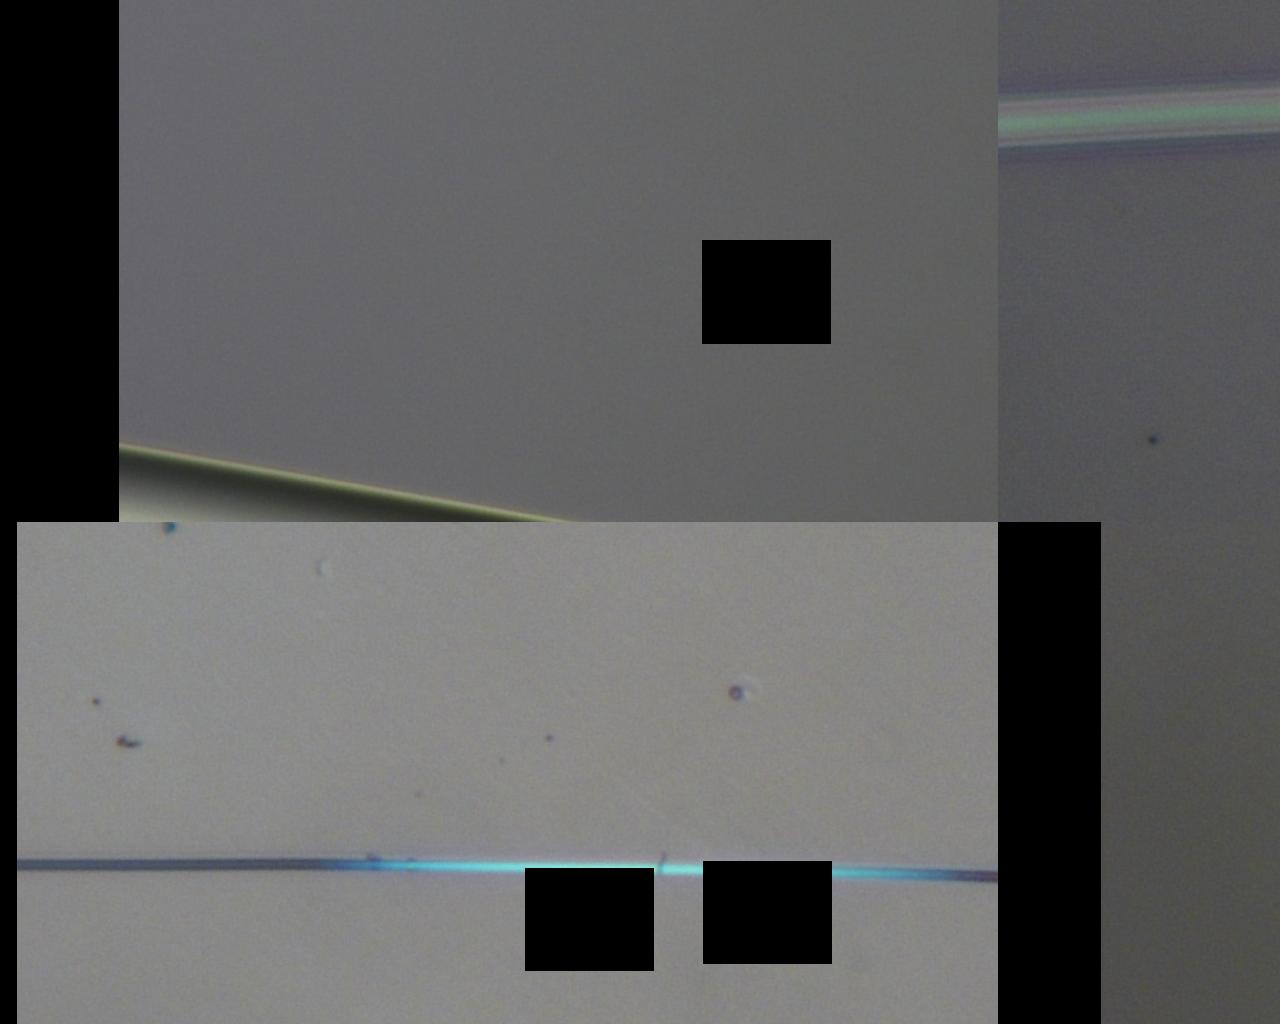fiber: (870, 381, 1280, 927), (0, 647, 743, 738)
